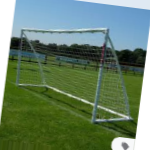goals: (13, 26, 133, 123)
